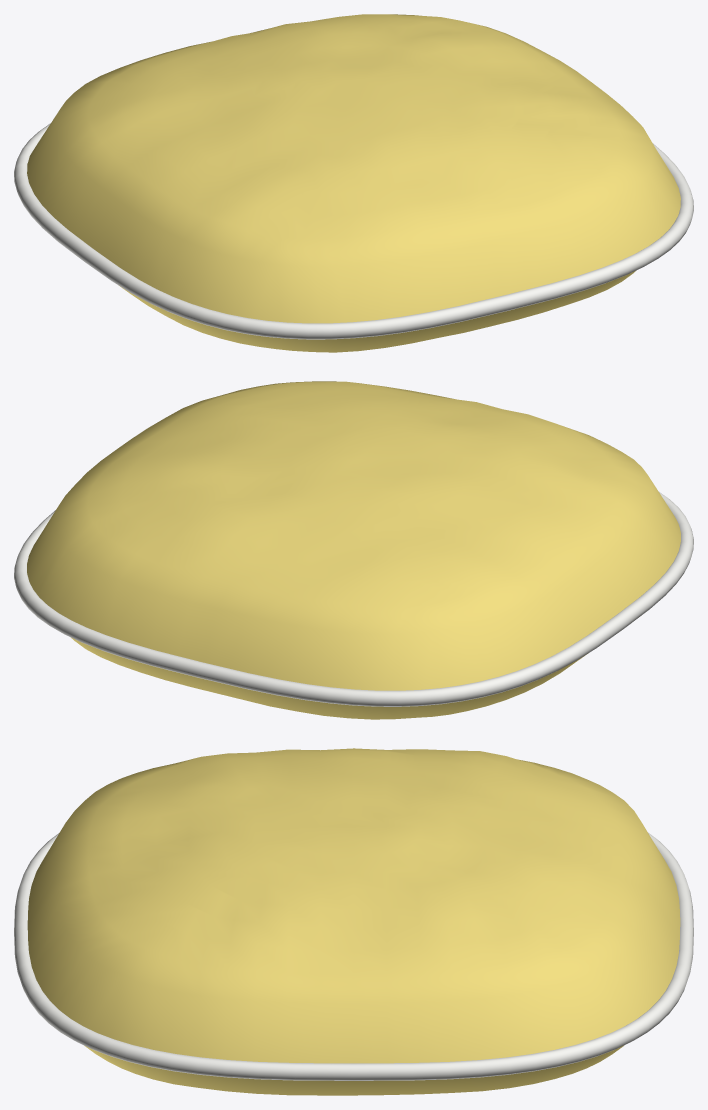
The model's file is textiles_cushion_a.fbx.
The picture shows the model from 3 angles, top to bottom: view 1: azimuth 30°, elevation 25°; view 2: azimuth 150°, elevation 25°; view 3: azimuth 270°, elevation 25°; orthographic projection. The views are drawn at different scales.
Visible parts, largest first — view 1: textiles_cushion_a; view 2: textiles_cushion_a; view 3: textiles_cushion_a.
Part boxes in pixels (x1=…): textiles_cushion_a: x1=14, y1=14, x2=693, y2=352; textiles_cushion_a: x1=14, y1=381, x2=693, y2=719; textiles_cushion_a: x1=14, y1=748, x2=693, y2=1095.
Bounding box in the file's own units: 0.462 × 0.1316 × 0.462.
